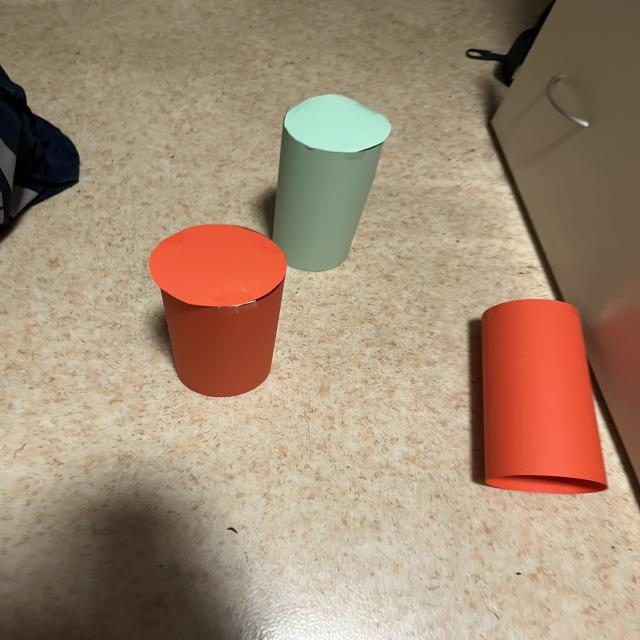meta: (272, 94, 391, 271)
przeszkoda: (481, 299, 607, 493), (149, 224, 287, 397)
